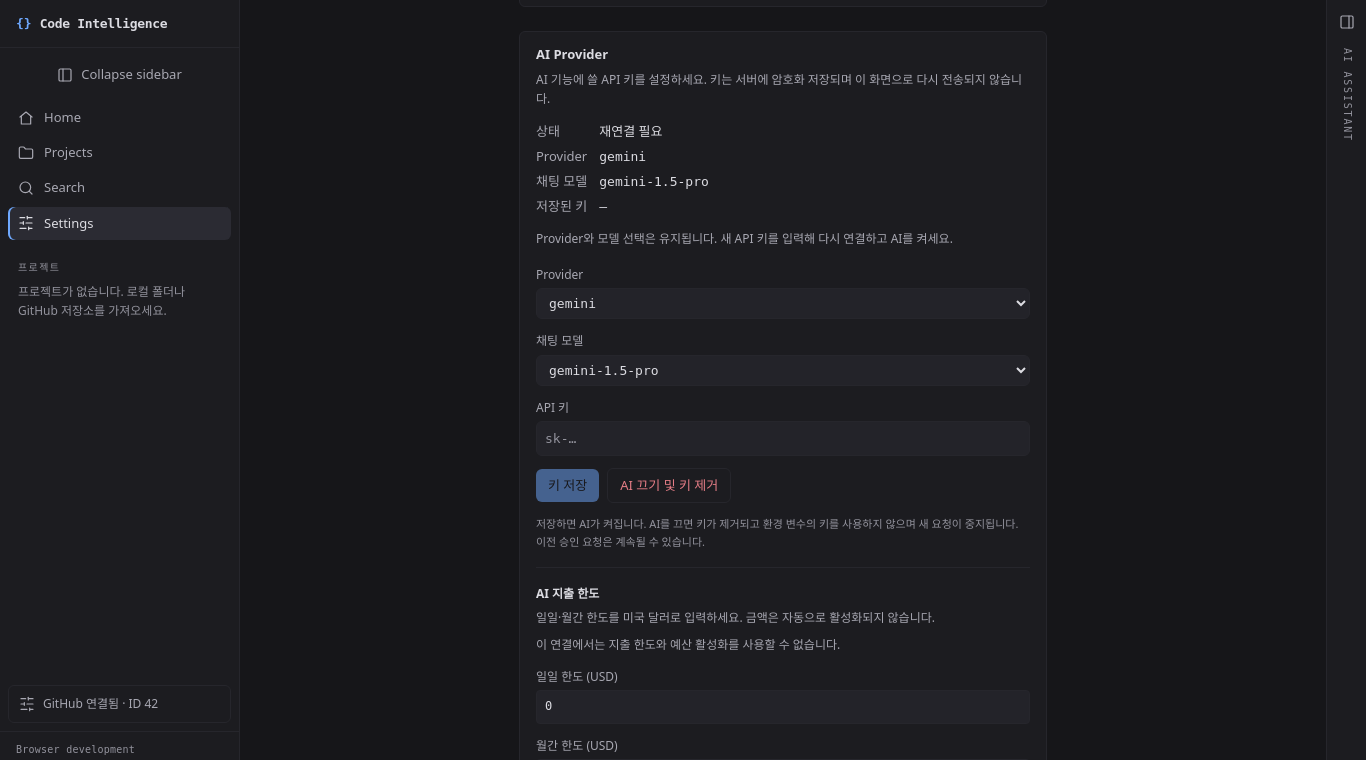
Test case: AI settings OFF and reconnection › preserves a reconnect preference that is not the first model and requires an explicitly entered key
(page scrolled)
expect the text "재연결 필요" is shown: met, box [599,122,662,140]
expect the text "Provider와 모델 선택은 유지됩니다. 새 API 키를 입력해 다시 연결하고 AI를 켜세요." is shown: met, box [536,230,953,247]
Submit the form "키 저장", box [536,264,1030,503]
In the password field labelled "API 키": (783, 439) [536,421,1030,456], type "synthetic-reconnect-key"
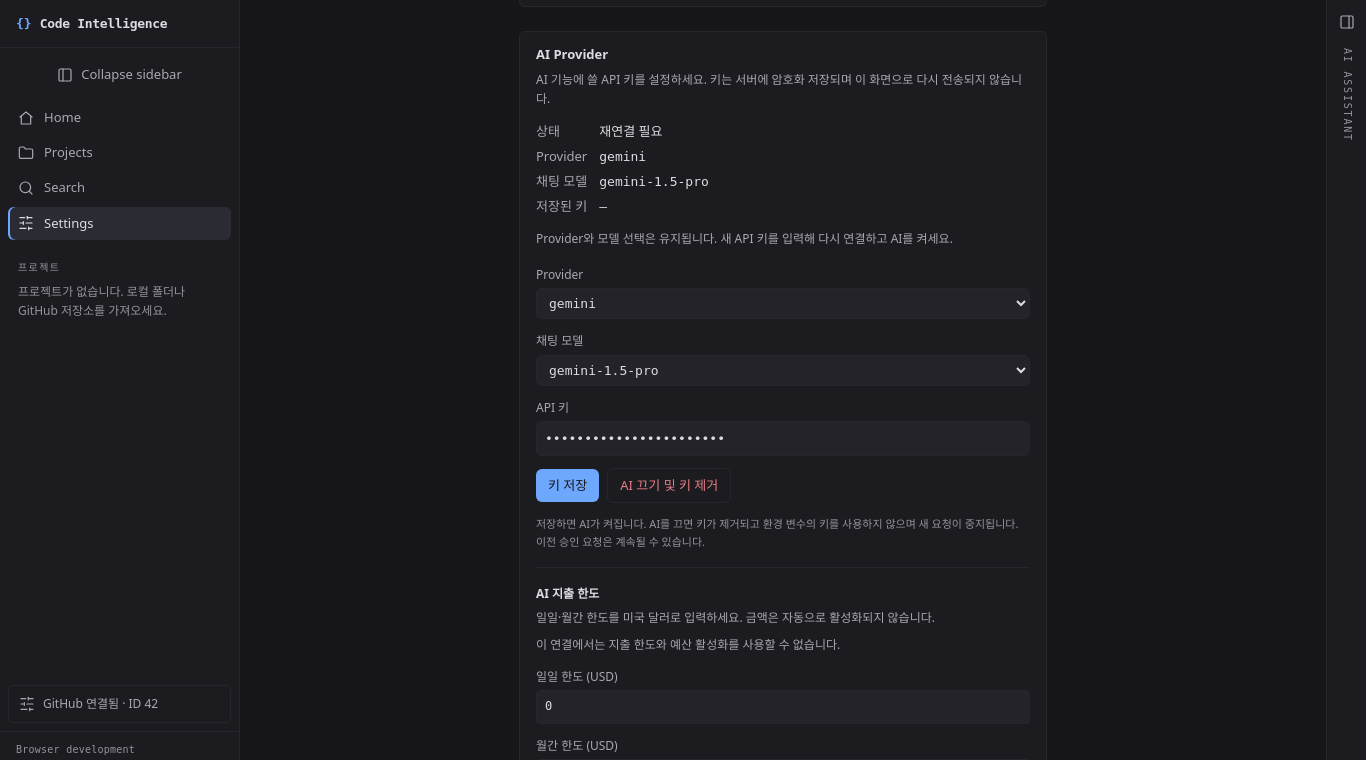
expect the button "키 저장" is enabled: met
Click the button "키 저장": (568, 486) [536,469,599,502]
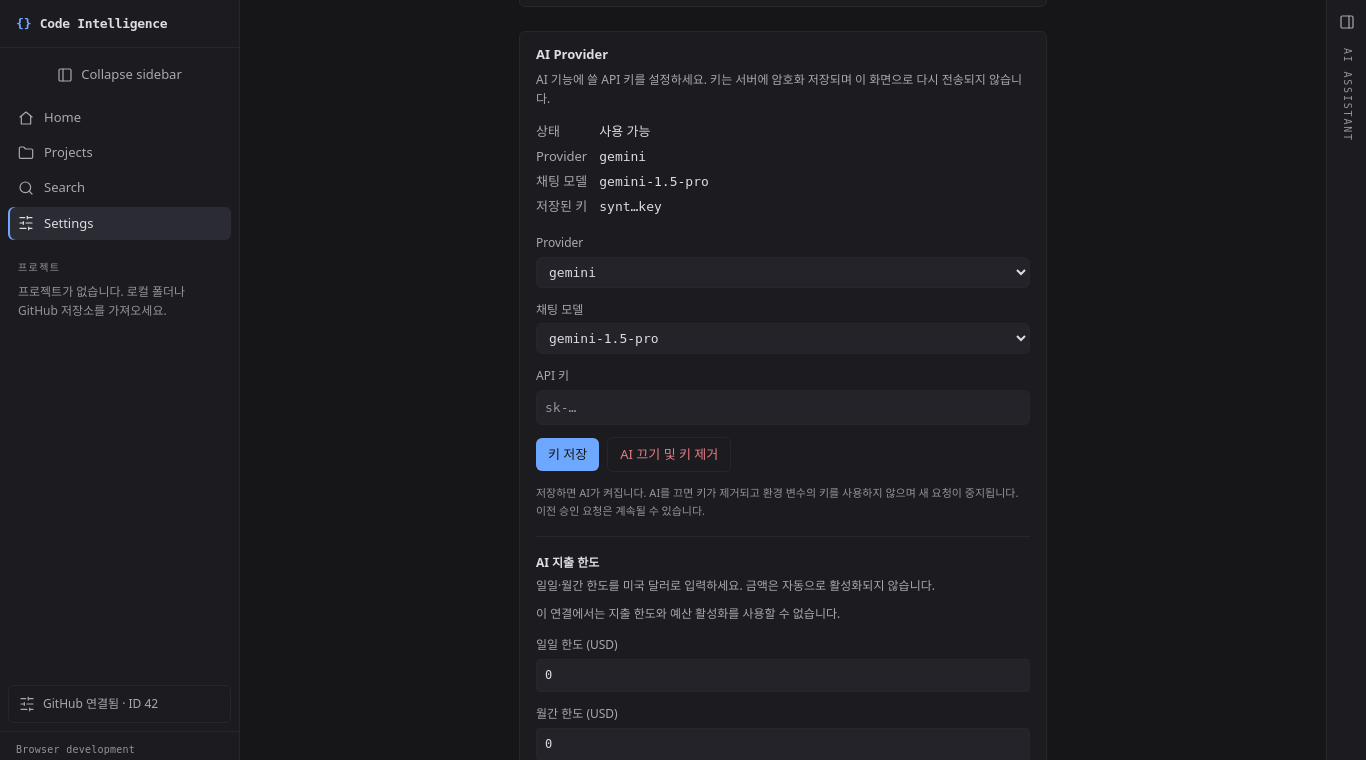
expect the text "synt…key" is shown: met, box [599,199,662,214]
expect the password field labelled "API 키" is empty: met, box [536,390,1030,425]
expect the text "사용 가능" is shown: met, box [599,122,650,140]
